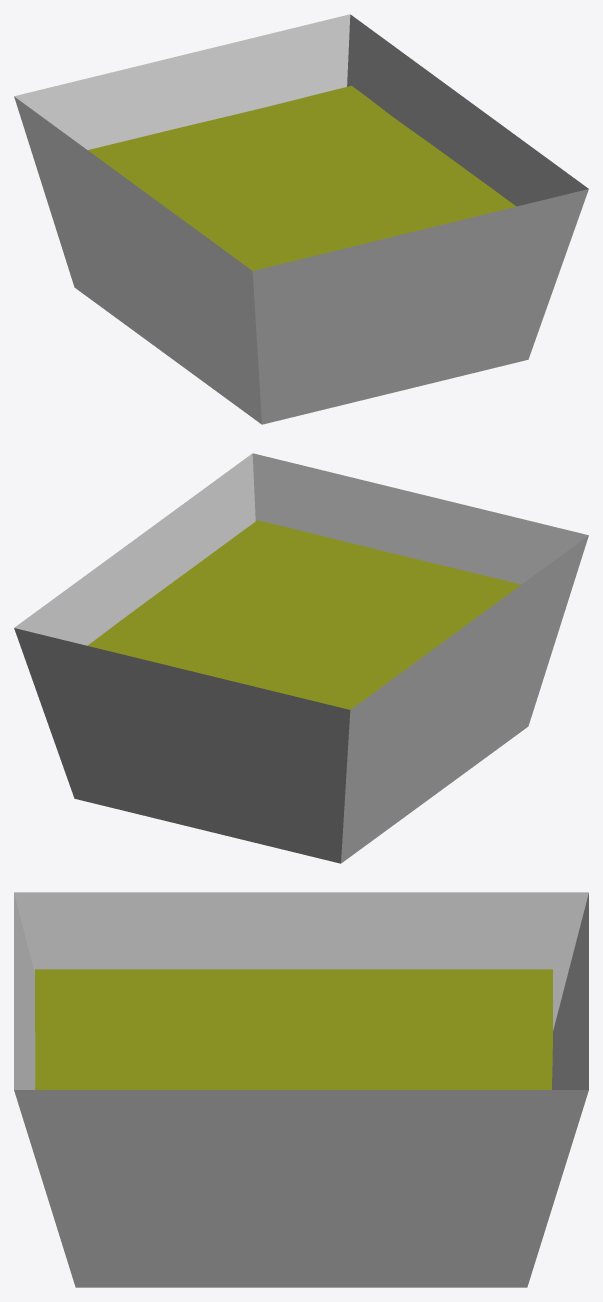
The model's file is DIY Soap Mold.fbx.
3 views of the same model, one above another, from view 1: azimuth 30°, elevation 25°; view 2: azimuth 150°, elevation 25°; view 3: azimuth 270°, elevation 25° (orthographic). The views are drawn at different scales.
Visible parts, largest first — view 1: Cube.001, Cube; view 2: Cube.001, Cube; view 3: Cube.001, Cube.
Part boxes in pixels (x1=…): Cube.001: x1=14, y1=14, x2=588, y2=424; Cube: x1=88, y1=85, x2=516, y2=270; Cube.001: x1=14, y1=453, x2=588, y2=863; Cube: x1=87, y1=520, x2=520, y2=709; Cube.001: x1=14, y1=892, x2=588, y2=1287; Cube: x1=35, y1=969, x2=552, y2=1089.
Size of the model in its own units: 41.8 by 21.5 by 51.38.
